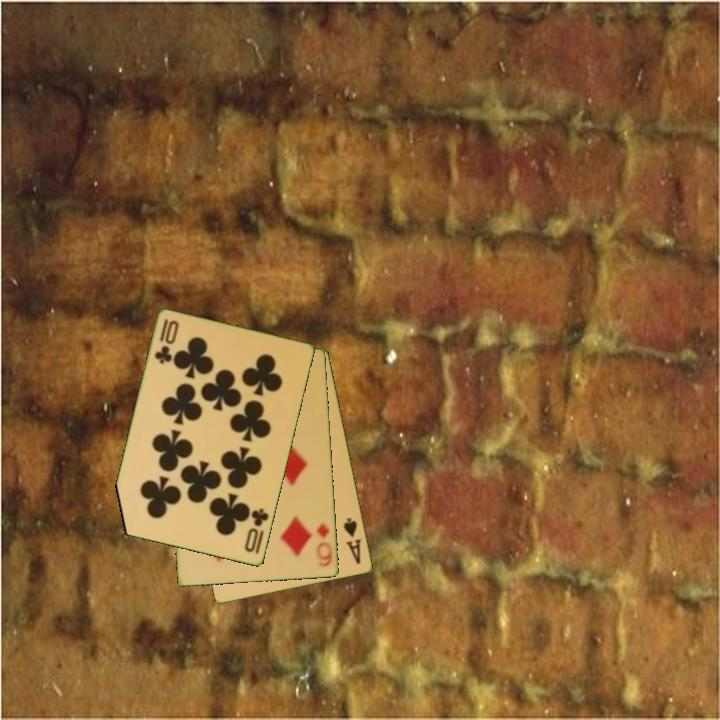10c: (241, 505, 272, 556), (151, 316, 182, 367)
6d: (312, 520, 336, 570)
As: (340, 515, 365, 567)
